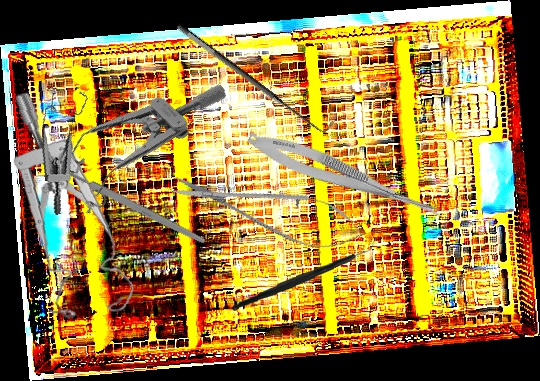Chopper: (229, 237, 381, 311)
Hook Surgical: (174, 11, 338, 142)
Micro Scissor: (243, 125, 453, 227), (167, 159, 369, 261)
Scalpel Handle: (63, 166, 208, 247)
Speculum: (43, 37, 230, 228), (2, 90, 145, 324), (23, 79, 114, 216)
